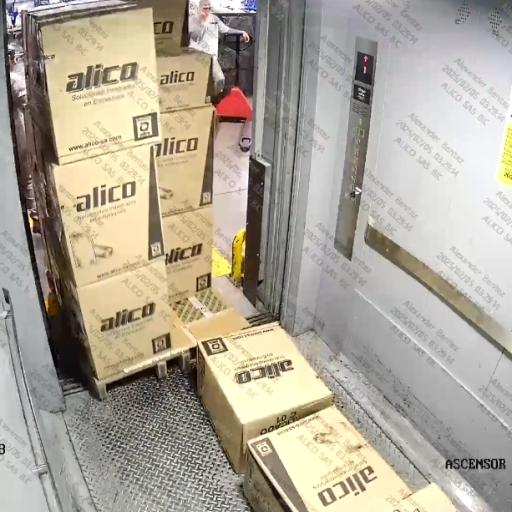Caja no amarrada: (23, 13, 466, 512)
